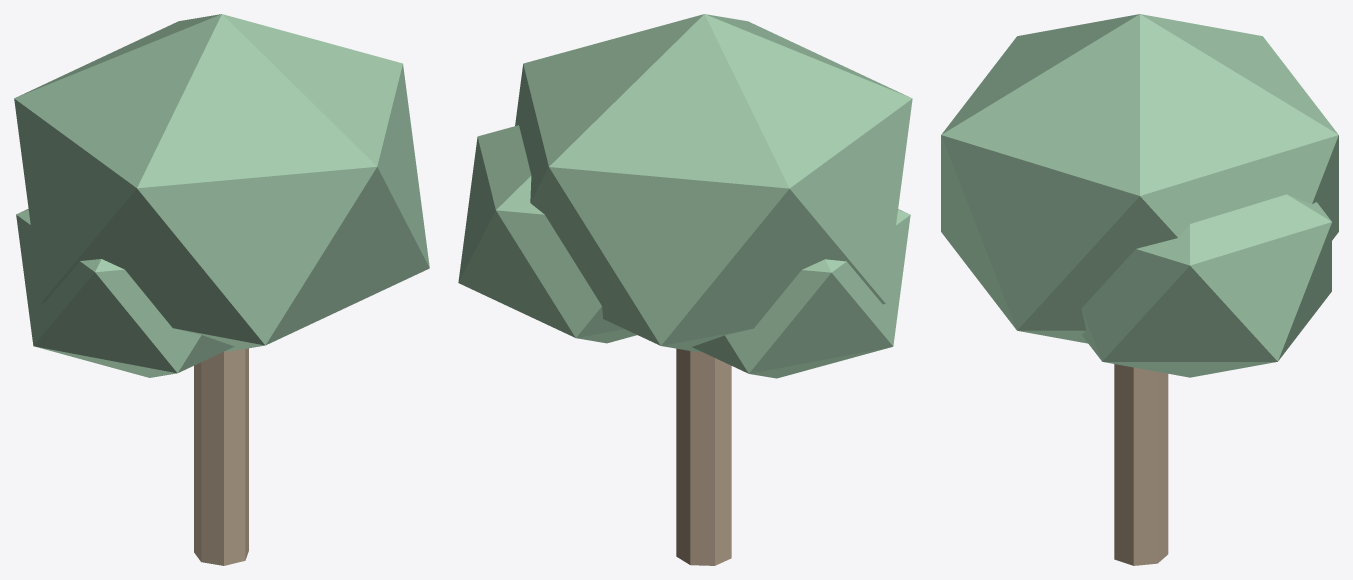
Rendered from tree_oak.glb.
3 views of the same model, side by side, from view 1: azimuth 30°, elevation 25°; view 2: azimuth 150°, elevation 25°; view 3: azimuth 270°, elevation 25° (orthographic).
Parts seen in each view (by area): view 1: tree_oak__leaf_crown, tree_oak__leaf_crown.001, tree_oak__trunk; view 2: tree_oak__leaf_crown, tree_oak__leaf_crown.002, tree_oak__leaf_crown.001, tree_oak__trunk; view 3: tree_oak__leaf_crown, tree_oak__leaf_crown.002, tree_oak__trunk.
Part boxes in pixels (box(x1,y1,x2,y2)): tree_oak__leaf_crown: box(14, 14, 429, 351); tree_oak__leaf_crown.001: box(16, 208, 234, 377); tree_oak__trunk: box(194, 348, 248, 565); tree_oak__leaf_crown: box(515, 14, 912, 352); tree_oak__leaf_crown.002: box(458, 125, 636, 343); tree_oak__leaf_crown.001: box(692, 209, 910, 378); tree_oak__trunk: box(676, 348, 731, 565); tree_oak__leaf_crown: box(941, 14, 1338, 343); tree_oak__leaf_crown.002: box(1081, 194, 1331, 377); tree_oak__trunk: box(1114, 364, 1168, 565).
Size of the model in its own units: 5.4 by 7.14 by 4.76.
